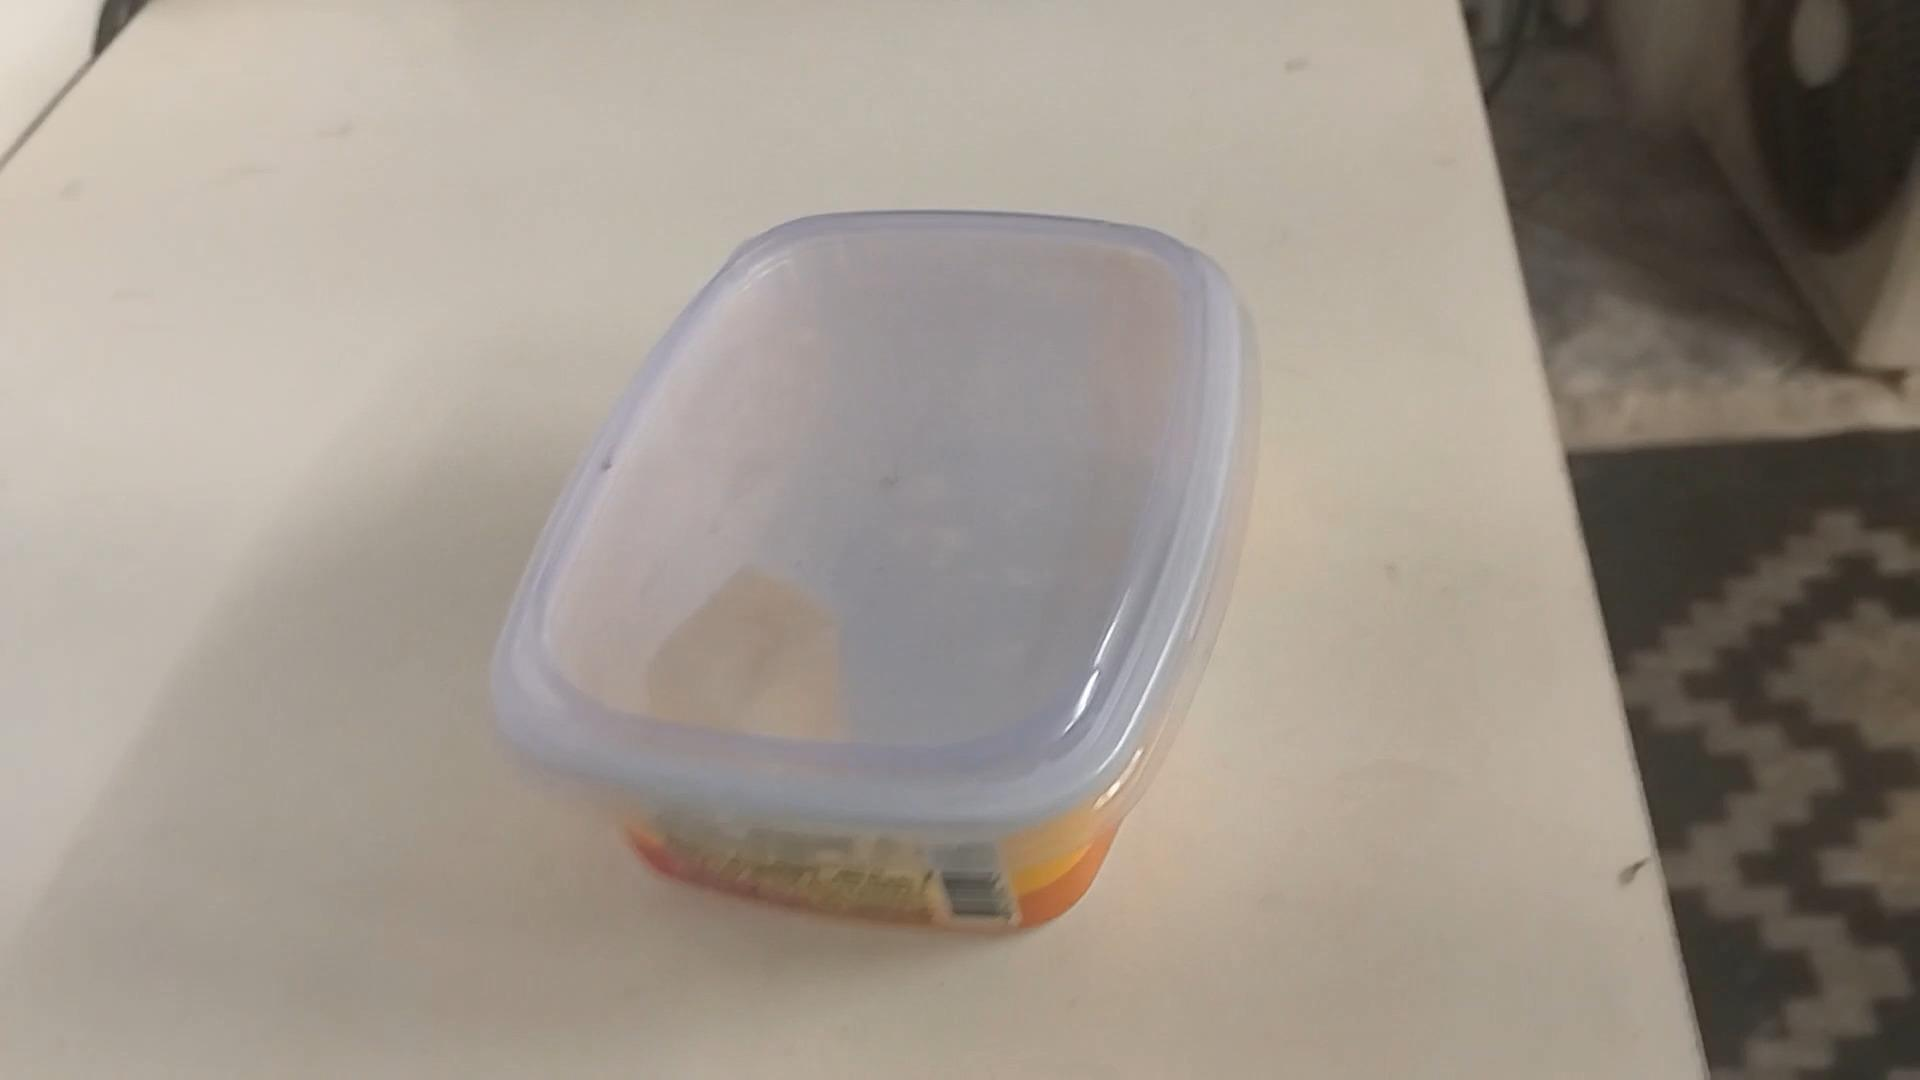butter: (481, 211, 1254, 938)
